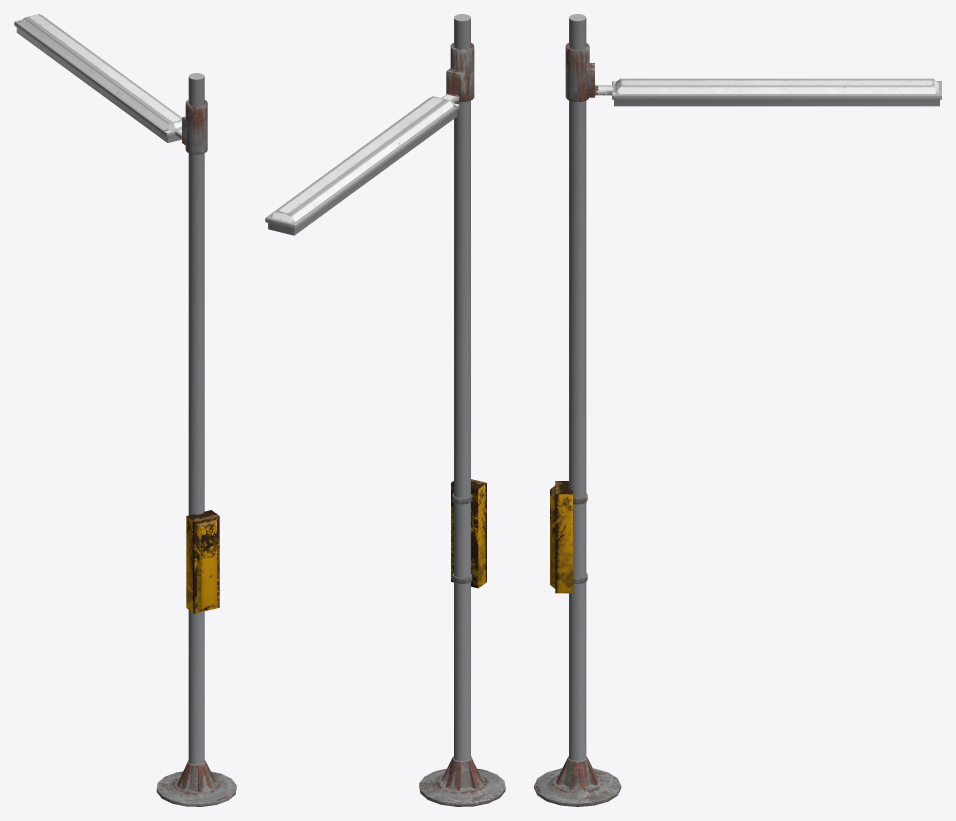
The model's file is lamparaCalle.obj.
3 views of the same model, side by side, from view 1: azimuth 30°, elevation 25°; view 2: azimuth 150°, elevation 25°; view 3: azimuth 270°, elevation 25° (orthographic). The views are drawn at different scales.
Visible parts, largest first — view 1: Lamp; view 2: Lamp; view 3: Lamp.
Part boxes in pixels (x1=…): Lamp: x1=14, y1=14, x2=236, y2=806; Lamp: x1=265, y1=14, x2=505, y2=806; Lamp: x1=534, y1=14, x2=941, y2=806.
Bounding box in the file's own units: 0.2998 × 2.93 × 1.4.
1 material, 1 textured.
